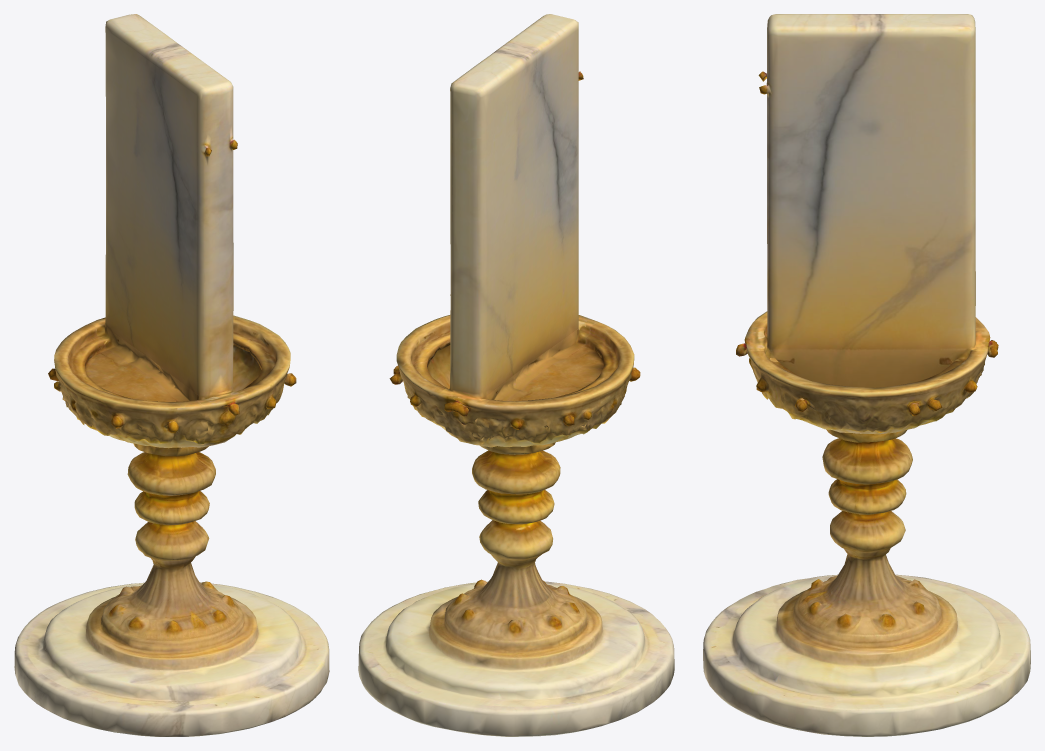
Rendered from holy_relic_on_top_of__0610143301_texture.fbx.
3 views of the same model, side by side, from view 1: azimuth 30°, elevation 25°; view 2: azimuth 150°, elevation 25°; view 3: azimuth 270°, elevation 25° (orthographic). The views are drawn at different scales.
Visible parts, largest first — view 1: Mesh1; view 2: Mesh1; view 3: Mesh1.
Part boxes in pixels (x1,y1,x2,y2): Mesh1: [14, 14, 329, 736]; Mesh1: [358, 14, 674, 736]; Mesh1: [703, 14, 1030, 736].
Size of the model in its own units: 91.85 by 200 by 91.74.
Materials: 1 (1 with a texture image).
